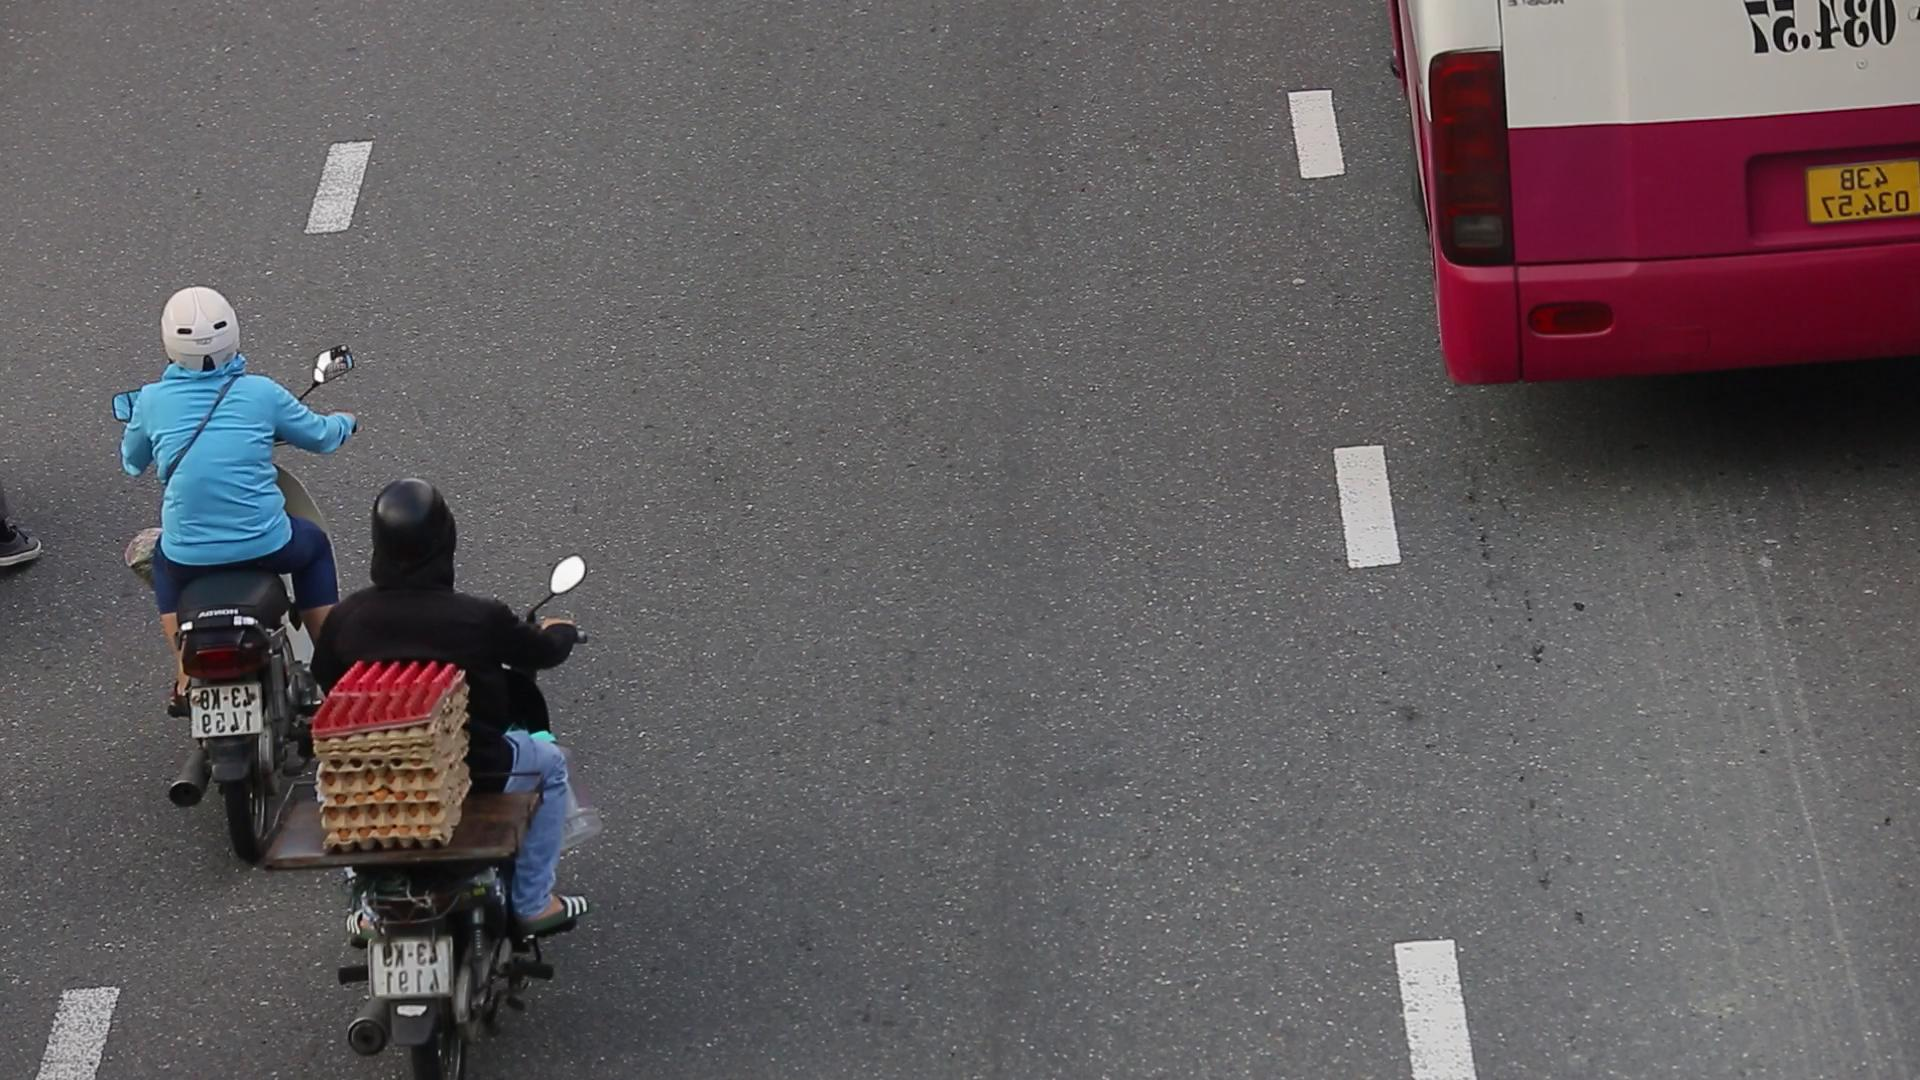motobike: (320, 469, 593, 1080), (92, 278, 353, 869)
